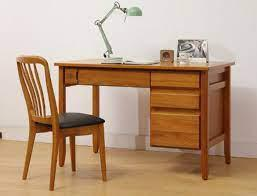desk: (11, 29, 239, 186)
